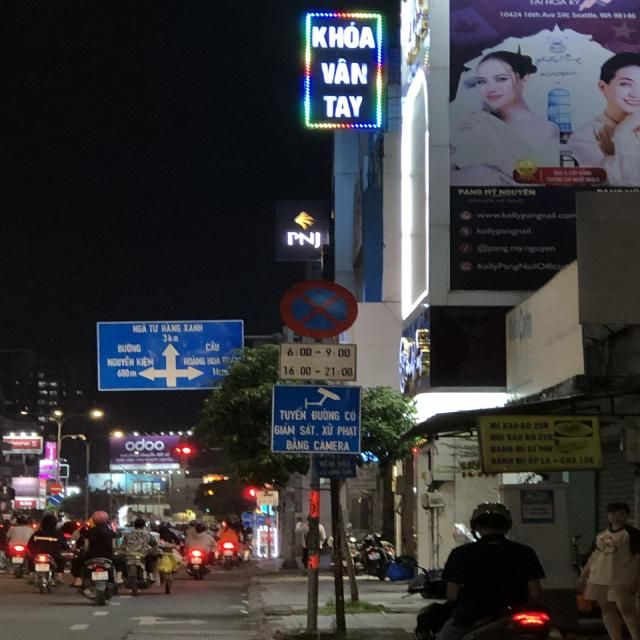Bien bao cam dung xe va do xe: (273, 278, 361, 342)
